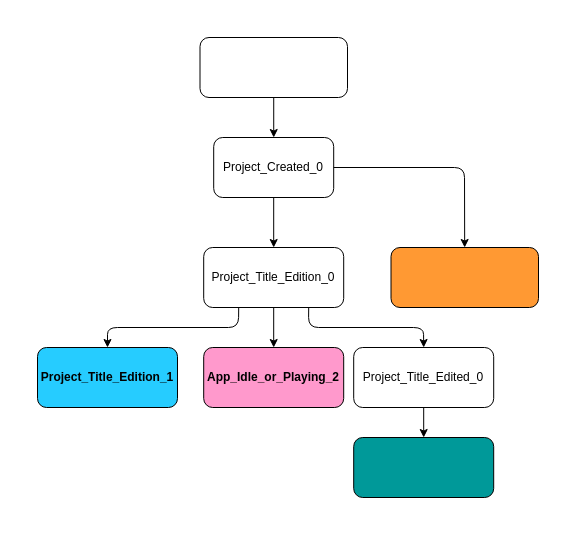
This 584x554 diagram has some shape labels left out. Here are the shapes that lost their labels. From the top down, the centre of each, then its label:
point 273,67: App_Idle_or_Playing_0
point 464,277: App_Idle_or_Playing_1
point 423,467: App_Idle_or_Playing_3
